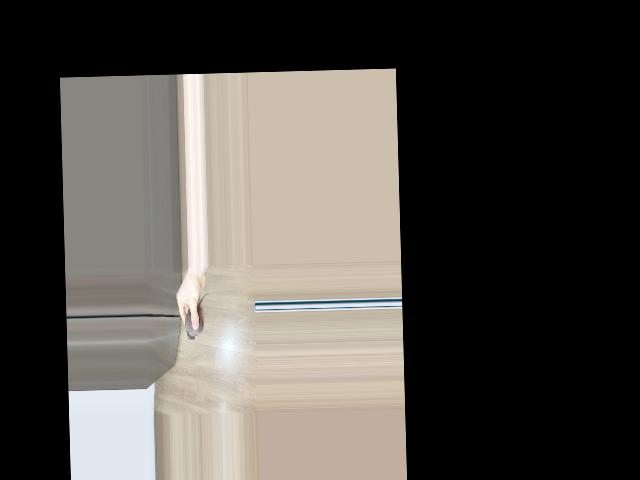beet: (184, 294, 210, 341)
